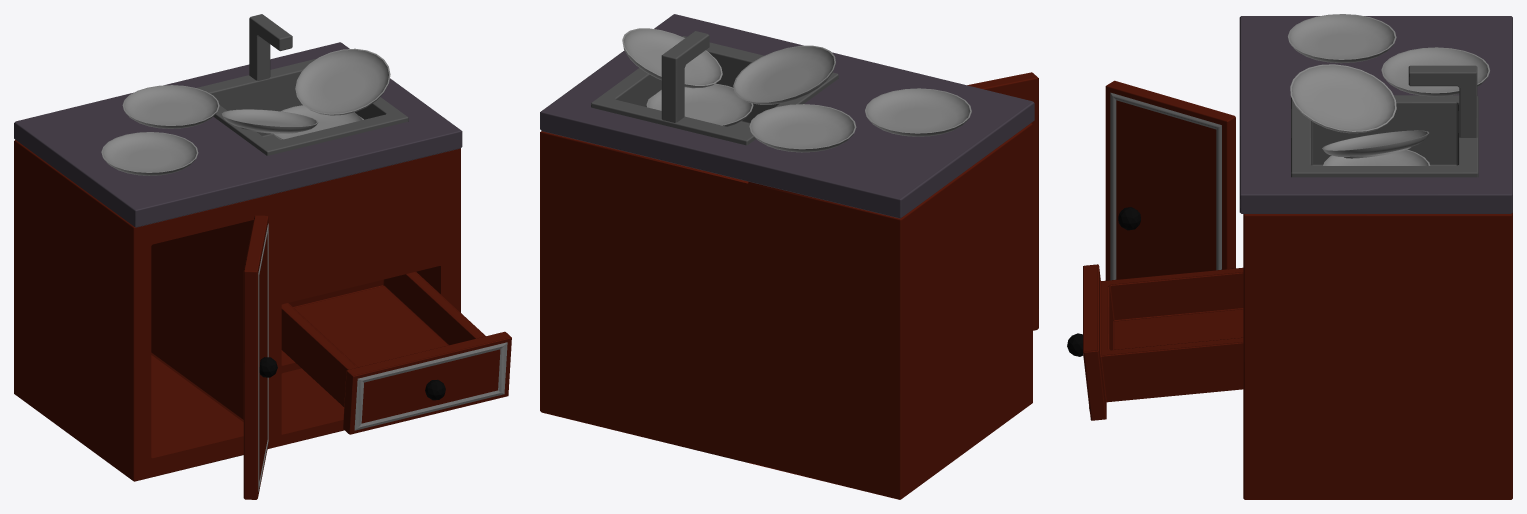
Rendered from MuebleSM_02.fbx.
The picture shows the model from 3 angles, left to right: view 1: azimuth 30°, elevation 25°; view 2: azimuth 150°, elevation 25°; view 3: azimuth 270°, elevation 25°; orthographic projection. The views are drawn at different scales.
Parts seen in each view (by area): view 1: Counter with sink; view 2: Counter with sink; view 3: Counter with sink.
Boxes of the visible parts, box(x1,y1,x2,y2) form: Counter with sink: box(14, 14, 511, 499); Counter with sink: box(540, 14, 1038, 499); Counter with sink: box(1067, 14, 1512, 499).
Bounding box in the file's own units: 392 × 384 × 412.
